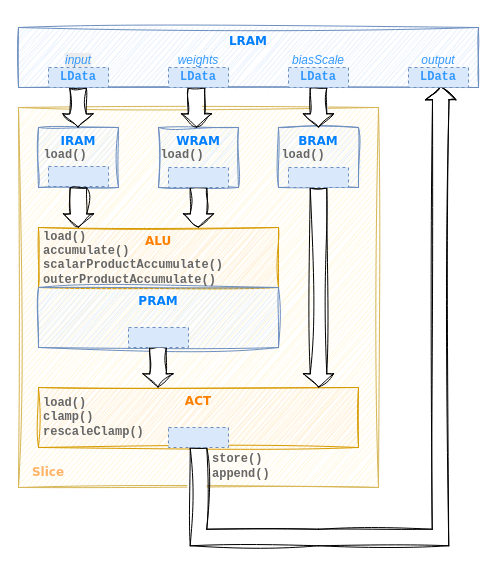
Some shapes in this 496 by 568 pixel diagram are drawn without their labels. The centre of each missing label's shape, as x and y in pixels:
"BData" goes at [318,177].
"IData" goes at [78,176].
"PData" goes at [158,337].
"QData" goes at [198,437].
"WData" goes at [198,177].
